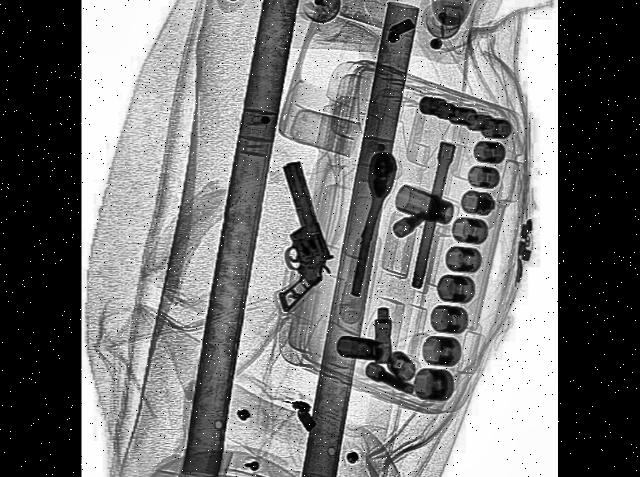Gun: (248, 151, 339, 314)
